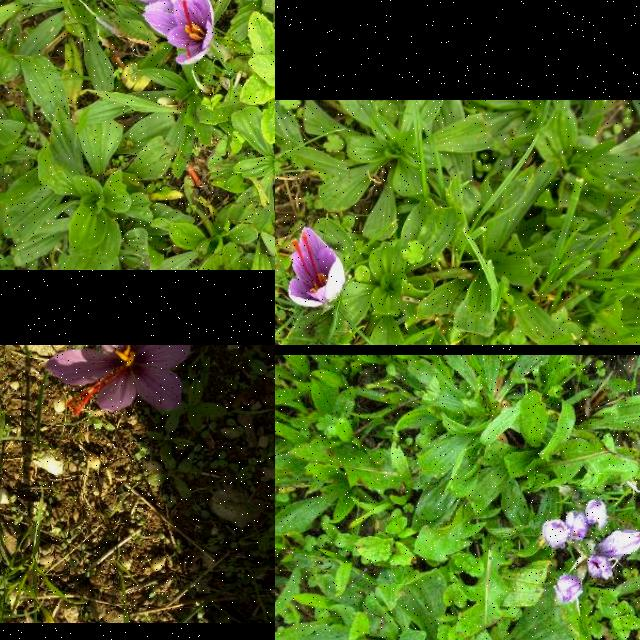flower: (44, 345, 194, 416), (288, 227, 346, 309), (554, 574, 584, 602)
overlap: (127, 0, 213, 66), (542, 499, 608, 547), (587, 530, 640, 580)
